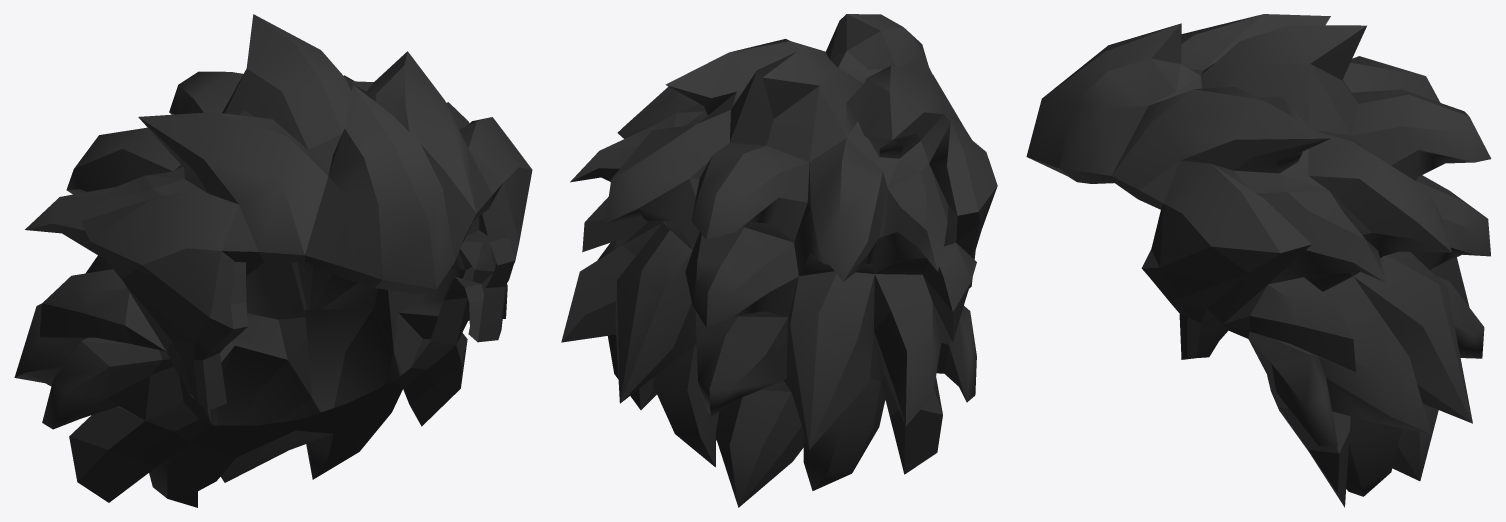
File: Hair_Black_20.fbx
The picture shows the model from 3 angles, left to right: view 1: azimuth 30°, elevation 25°; view 2: azimuth 150°, elevation 25°; view 3: azimuth 270°, elevation 25°; orthographic projection. The views are drawn at different scales.
Parts seen in each view (by area): view 1: Hair_Black_20; view 2: Hair_Black_20; view 3: Hair_Black_20.
Part boxes in pixels (left/top/right/bottom): Hair_Black_20: left=14, top=14, right=532, bottom=507; Hair_Black_20: left=561, top=14, right=997, bottom=507; Hair_Black_20: left=1026, top=14, right=1491, bottom=507.
Size of the model in its own units: 73.92 by 76.65 by 70.5.
